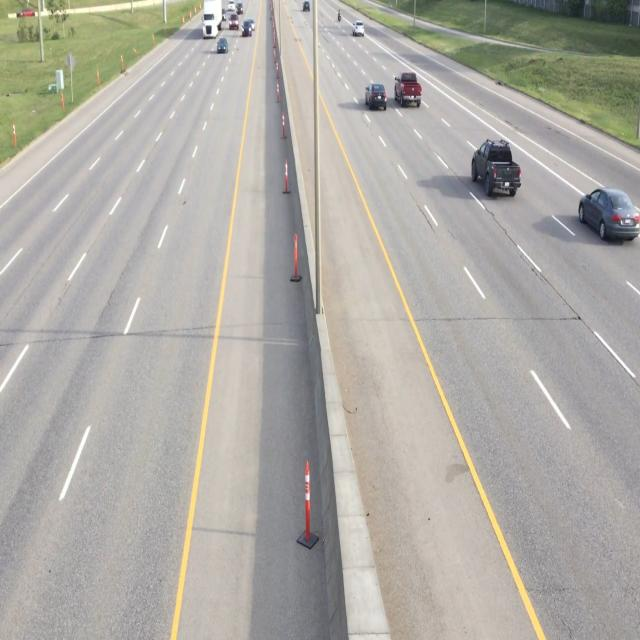Car: (577, 185, 639, 245), (470, 138, 522, 202), (393, 68, 422, 109), (364, 81, 388, 115), (352, 20, 366, 38), (217, 36, 228, 56)
